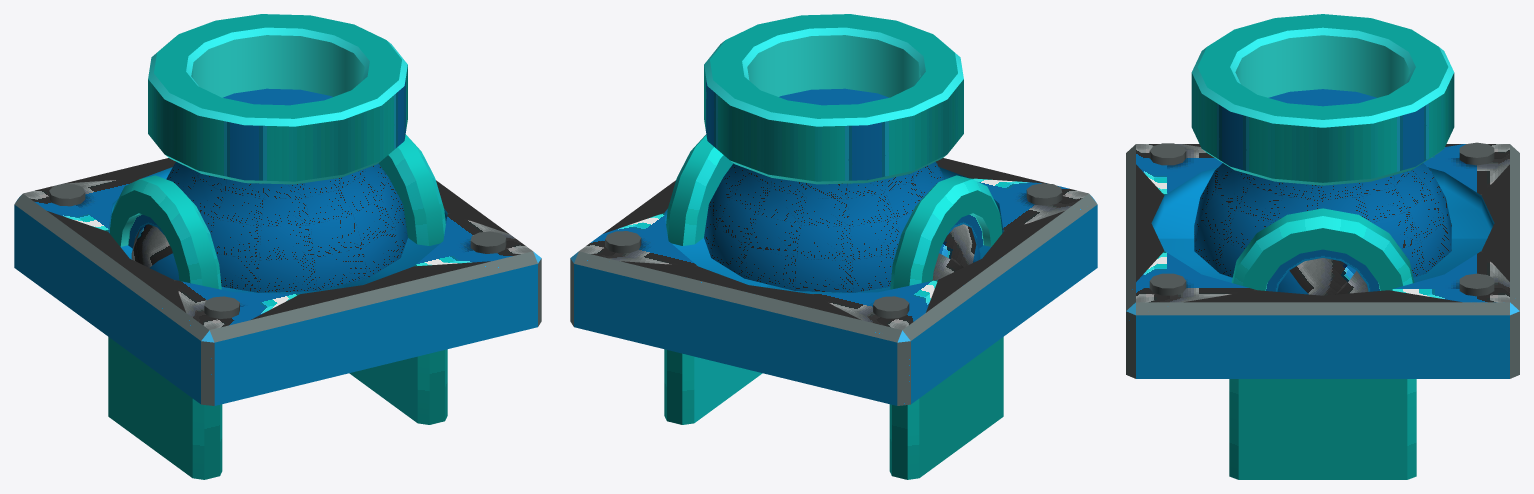
File: GyroLauncher.dae
The picture shows the model from 3 angles, left to right: view 1: azimuth 30°, elevation 25°; view 2: azimuth 150°, elevation 25°; view 3: azimuth 270°, elevation 25°; orthographic projection.
Parts seen in each view (by area): view 1: GyroLauncher (×5); view 2: GyroLauncher (×5); view 3: GyroLauncher (×5).
Part boxes in pixels (<box>): GyroLauncher (×5): <box>14,14,541,479</box>; GyroLauncher (×5): <box>570,14,1097,479</box>; GyroLauncher (×5): <box>1126,14,1519,479</box>.
Bounding box in the file's own units: 299 × 294 × 299.
2 materials, 2 textured.
